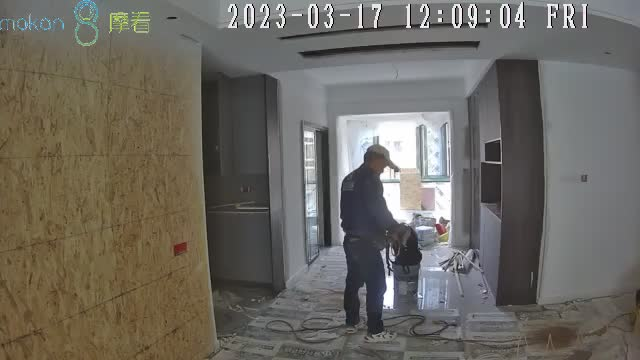people: (341, 143, 403, 342)
window: (354, 122, 452, 219)
